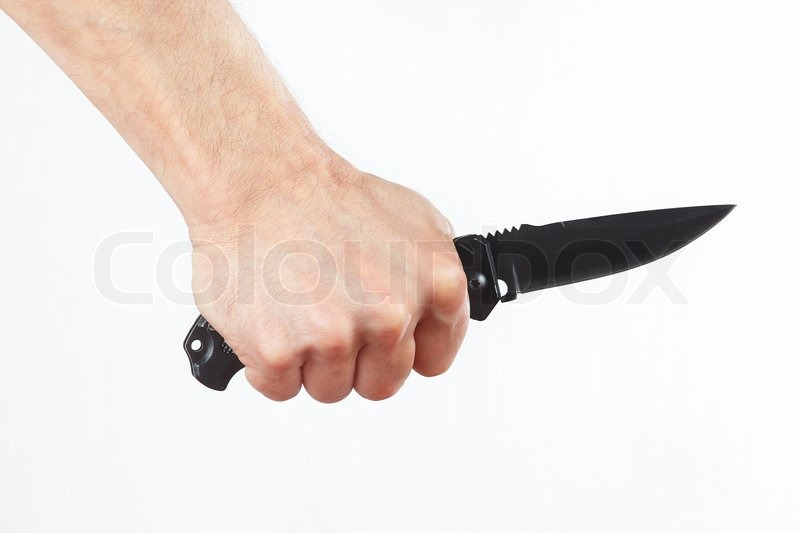knife: (242, 188, 754, 410)
